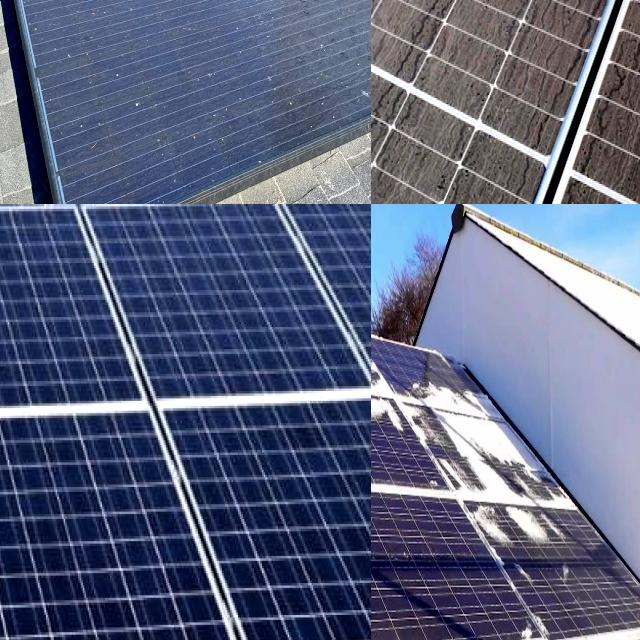crack: (71, 204, 371, 433), (136, 383, 371, 640), (0, 397, 222, 640), (0, 205, 160, 422), (119, 204, 337, 300), (0, 204, 193, 300), (0, 204, 91, 298)
dust: (78, 0, 179, 169), (374, 0, 530, 88), (371, 109, 473, 204), (212, 0, 275, 145), (371, 0, 451, 92), (302, 0, 371, 98), (115, 0, 225, 60), (18, 0, 100, 65), (371, 0, 417, 113), (547, 0, 619, 43), (95, 0, 175, 34), (0, 0, 77, 31)
panel: (371, 352, 425, 464), (453, 425, 536, 493), (371, 327, 423, 425), (475, 498, 558, 552), (408, 368, 492, 418), (371, 368, 389, 474), (371, 297, 403, 333), (513, 618, 561, 640)
